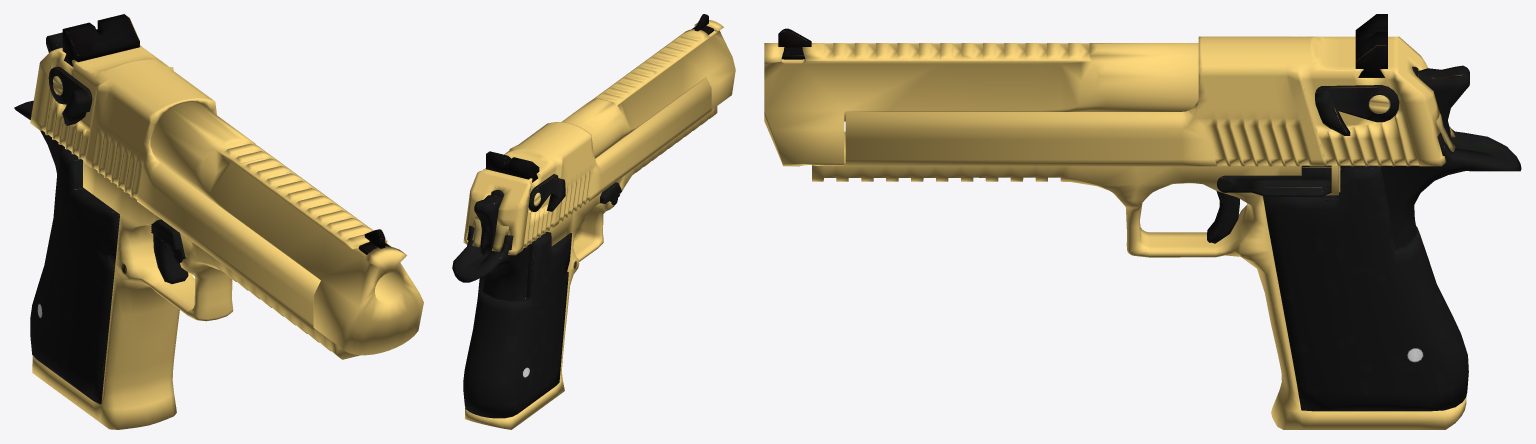
File: deagle.glb
3 renders of one model, left to right at view 1: azimuth 30°, elevation 25°; view 2: azimuth 150°, elevation 25°; view 3: azimuth 270°, elevation 25°, orthographic. The views are drawn at different scales.
Visible parts, largest first — view 1: magazine_LP1_aiStandardSurface1_0; view 2: magazine_LP1_aiStandardSurface1_0; view 3: magazine_LP1_aiStandardSurface1_0.
Boxes of the visible parts, box(x1,y1,x2,y2) form: magazine_LP1_aiStandardSurface1_0: box(14, 14, 423, 429); magazine_LP1_aiStandardSurface1_0: box(452, 14, 735, 429); magazine_LP1_aiStandardSurface1_0: box(764, 14, 1521, 429).
Size of the model in its own units: 0.0467 by 0.1507 by 0.2701.
1 material, 1 textured.
